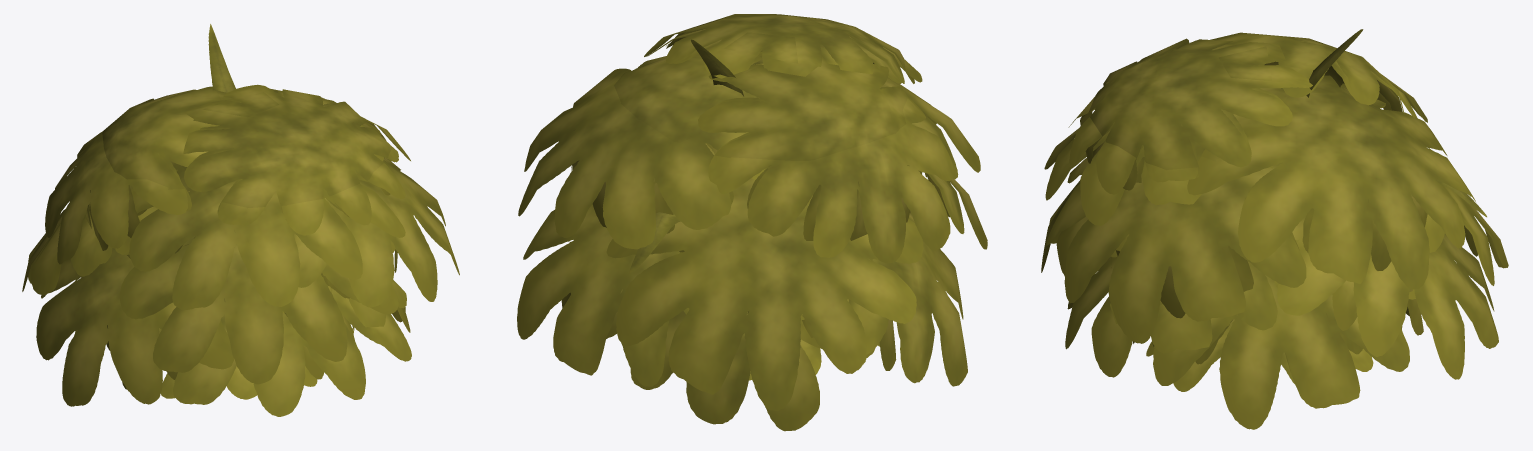
Rendered from Graminhas.fbx.
3 views of the same model, side by side, from view 1: azimuth 30°, elevation 25°; view 2: azimuth 150°, elevation 25°; view 3: azimuth 270°, elevation 25° (orthographic). The views are drawn at different scales.
Parts seen in each view (by area): view 1: Arbusto1, Arbusto2, ArbustoTop, BladeGrass; view 2: Arbusto1, Arbusto2, BladeGressMoreBended, BladeGrass; view 3: Arbusto1, Arbusto2, ArbustoTop, BladeGrass.
Boxes of the visible parts, box(x1,y1,x2,y2) form: Arbusto1: box(22, 90, 459, 416); Arbusto2: box(85, 84, 397, 389); ArbustoTop: box(160, 328, 353, 399); BladeGrass: box(208, 24, 235, 92); Arbusto1: box(517, 28, 987, 431); Arbusto2: box(571, 14, 927, 370); BladeGressMoreBended: box(628, 212, 680, 274); BladeGrass: box(691, 39, 743, 96); Arbusto1: box(1041, 44, 1508, 429); Arbusto2: box(1080, 32, 1427, 372); ArbustoTop: box(1146, 319, 1373, 391); BladeGrass: box(1306, 29, 1363, 97).
Bounding box in the file's own units: 2.42 × 1.99 × 2.52.
